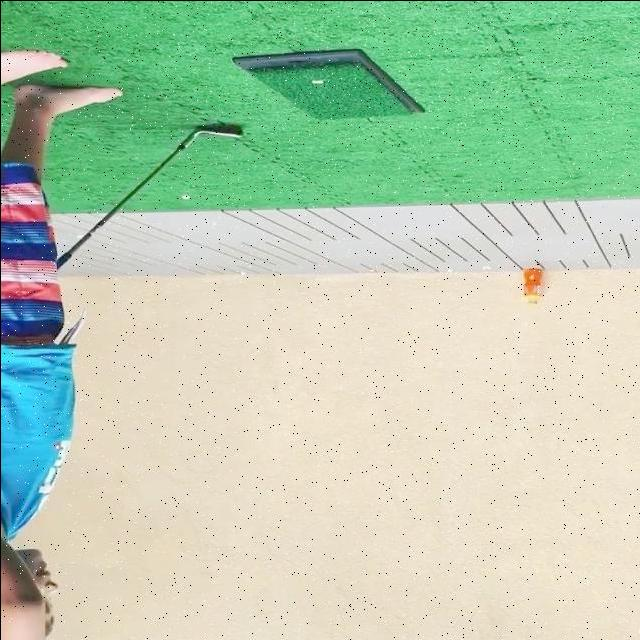golf club-handle: (52, 119, 246, 270)
golf club-head: (195, 123, 244, 137)
